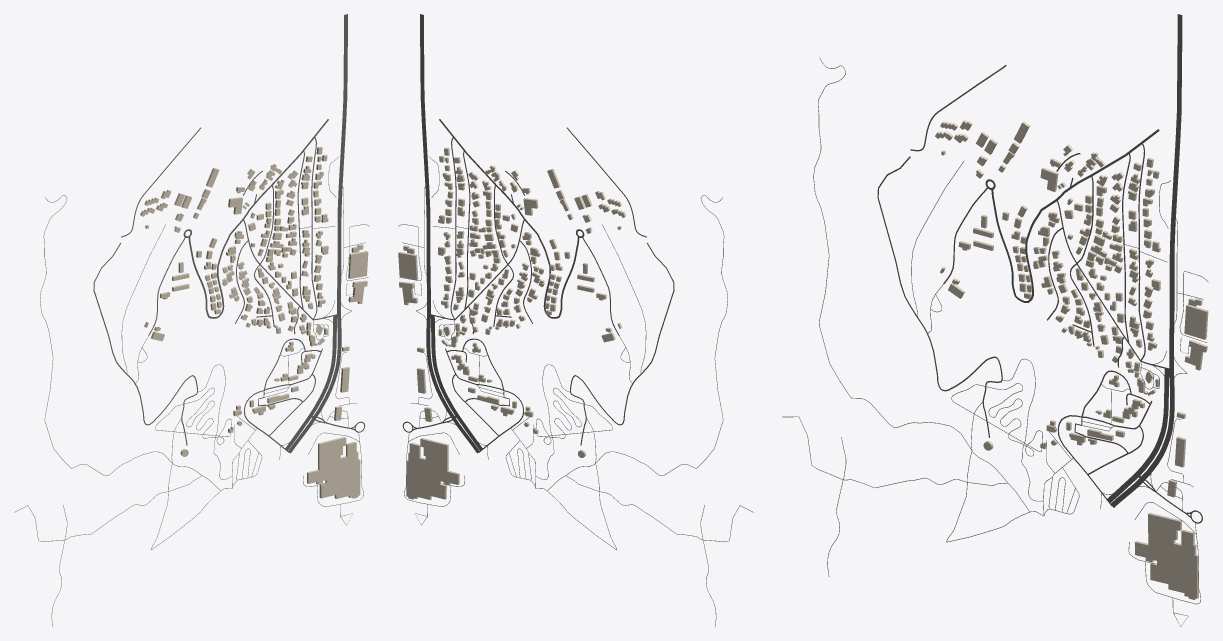
File: historic-palestine-14_37_3556_3319.glb
3 renders of one model, left to right at view 1: azimuth 30°, elevation 25°; view 2: azimuth 150°, elevation 25°; view 3: azimuth 330°, elevation 25°, orthographic. The views are drawn at different scales.
Visible parts, largest first — view 1: Building_.005, Road תל חי, Building_.001, Building_.006; view 2: Building_.005, Road תל חי, Building_.001, Building_.006; view 3: Building_.005, Road תל חי, Building_.001, Building_.006, Road 90.003, Road 90, Road הרב קוק, Road.
Boxes of the visible parts, x1,y1,x2,y2 form: Building_.005: [319, 441, 360, 498]; Road תל חי: [337, 14, 347, 314]; Building_.001: [307, 437, 346, 484]; Building_.006: [348, 251, 368, 278]; Building_.005: [406, 442, 446, 499]; Road תל חי: [420, 14, 430, 314]; Building_.001: [420, 438, 459, 485]; Building_.006: [398, 252, 418, 279]; Building_.005: [1150, 529, 1198, 599]; Road תל חי: [1169, 14, 1182, 369]; Building_.001: [1134, 513, 1181, 567]; Building_.006: [1184, 304, 1208, 339]; Road 90.003: [1141, 369, 1174, 479]; Road 90: [1136, 368, 1169, 475]; Road הרב קוק: [991, 189, 1057, 302]; Road: [877, 156, 995, 391].
Bounding box in the file's own units: 1085 × 1576 × 8.7.
